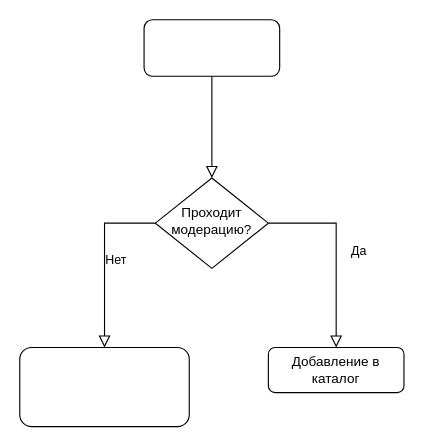
The diagram is 424 pixels wide and 446 high, and some of its shapes have lost their labels. The shapes that lost their labels are listed below. From the top down, each one's centre as x and y in pixels, then its label:
pixel 211 47: Заполнение карточки товара
pixel 104 386: Отклонение карточки и отправка замечаний поставщику
